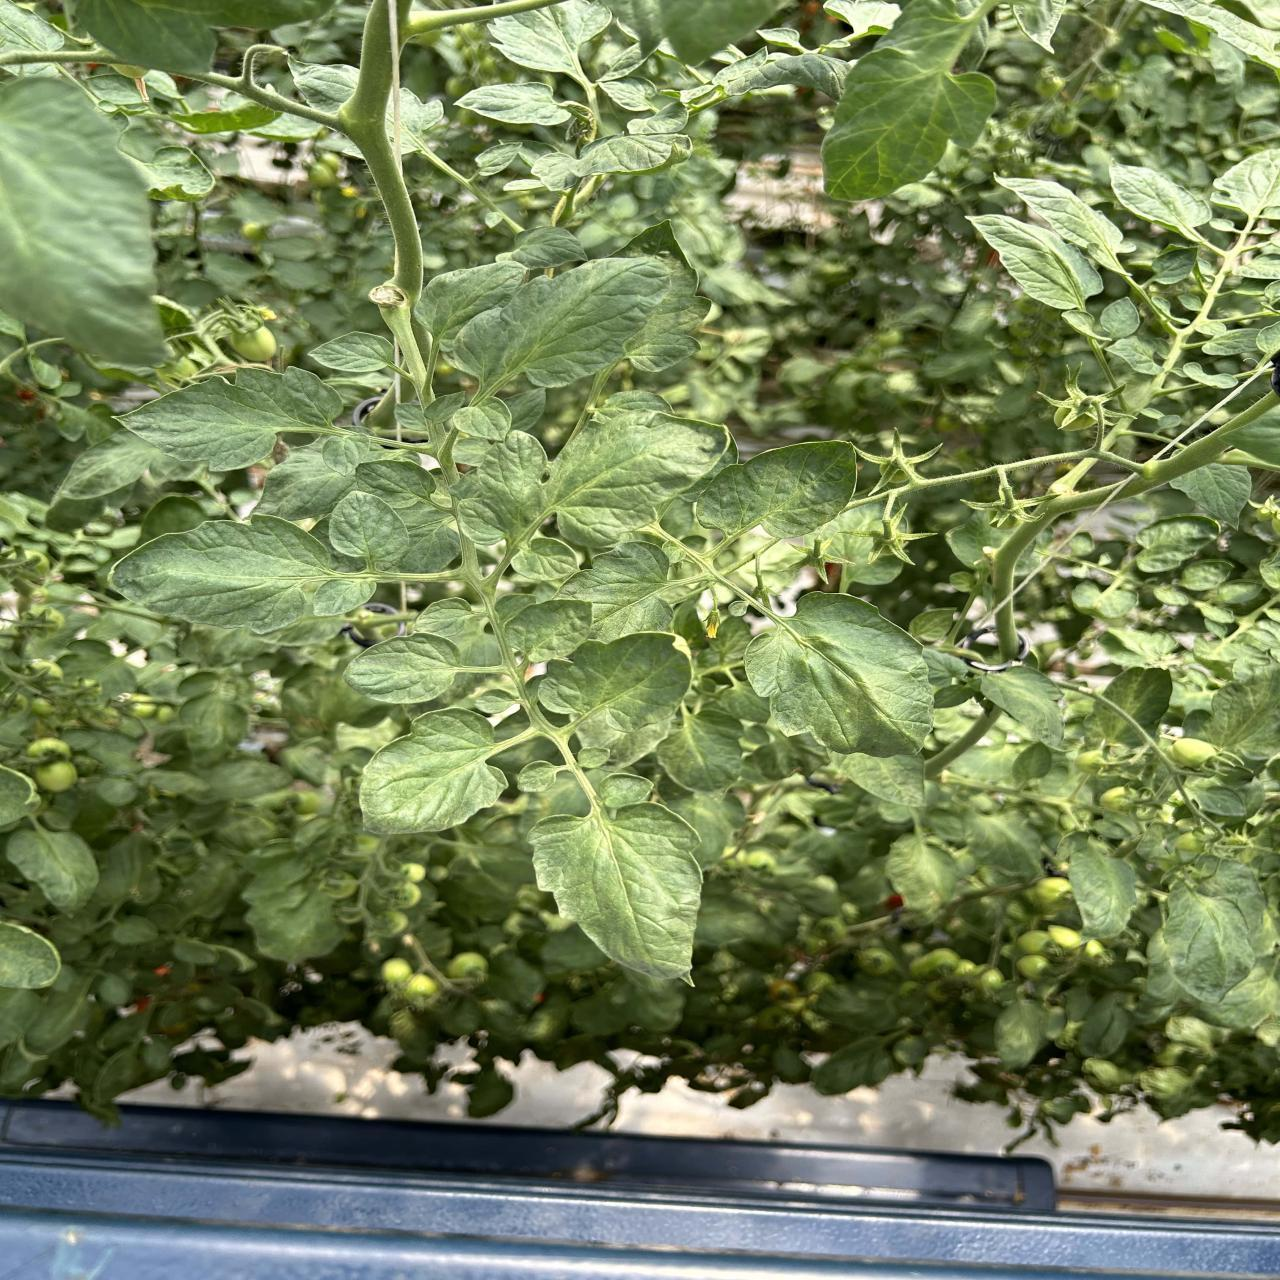Hoja: (440, 390, 736, 570), (744, 592, 934, 808), (415, 251, 681, 399), (823, 0, 995, 200), (110, 516, 375, 633), (527, 803, 702, 978), (121, 368, 341, 471), (359, 708, 508, 835), (539, 632, 690, 748), (695, 441, 857, 539), (967, 216, 1103, 311), (1001, 178, 1123, 272), (488, 0, 612, 79), (1109, 164, 1212, 240), (345, 635, 458, 703), (329, 490, 408, 570), (505, 600, 591, 662), (456, 82, 572, 125), (1212, 148, 1280, 219)
Pedunculo: (990, 395, 1274, 660), (336, 0, 421, 299)
